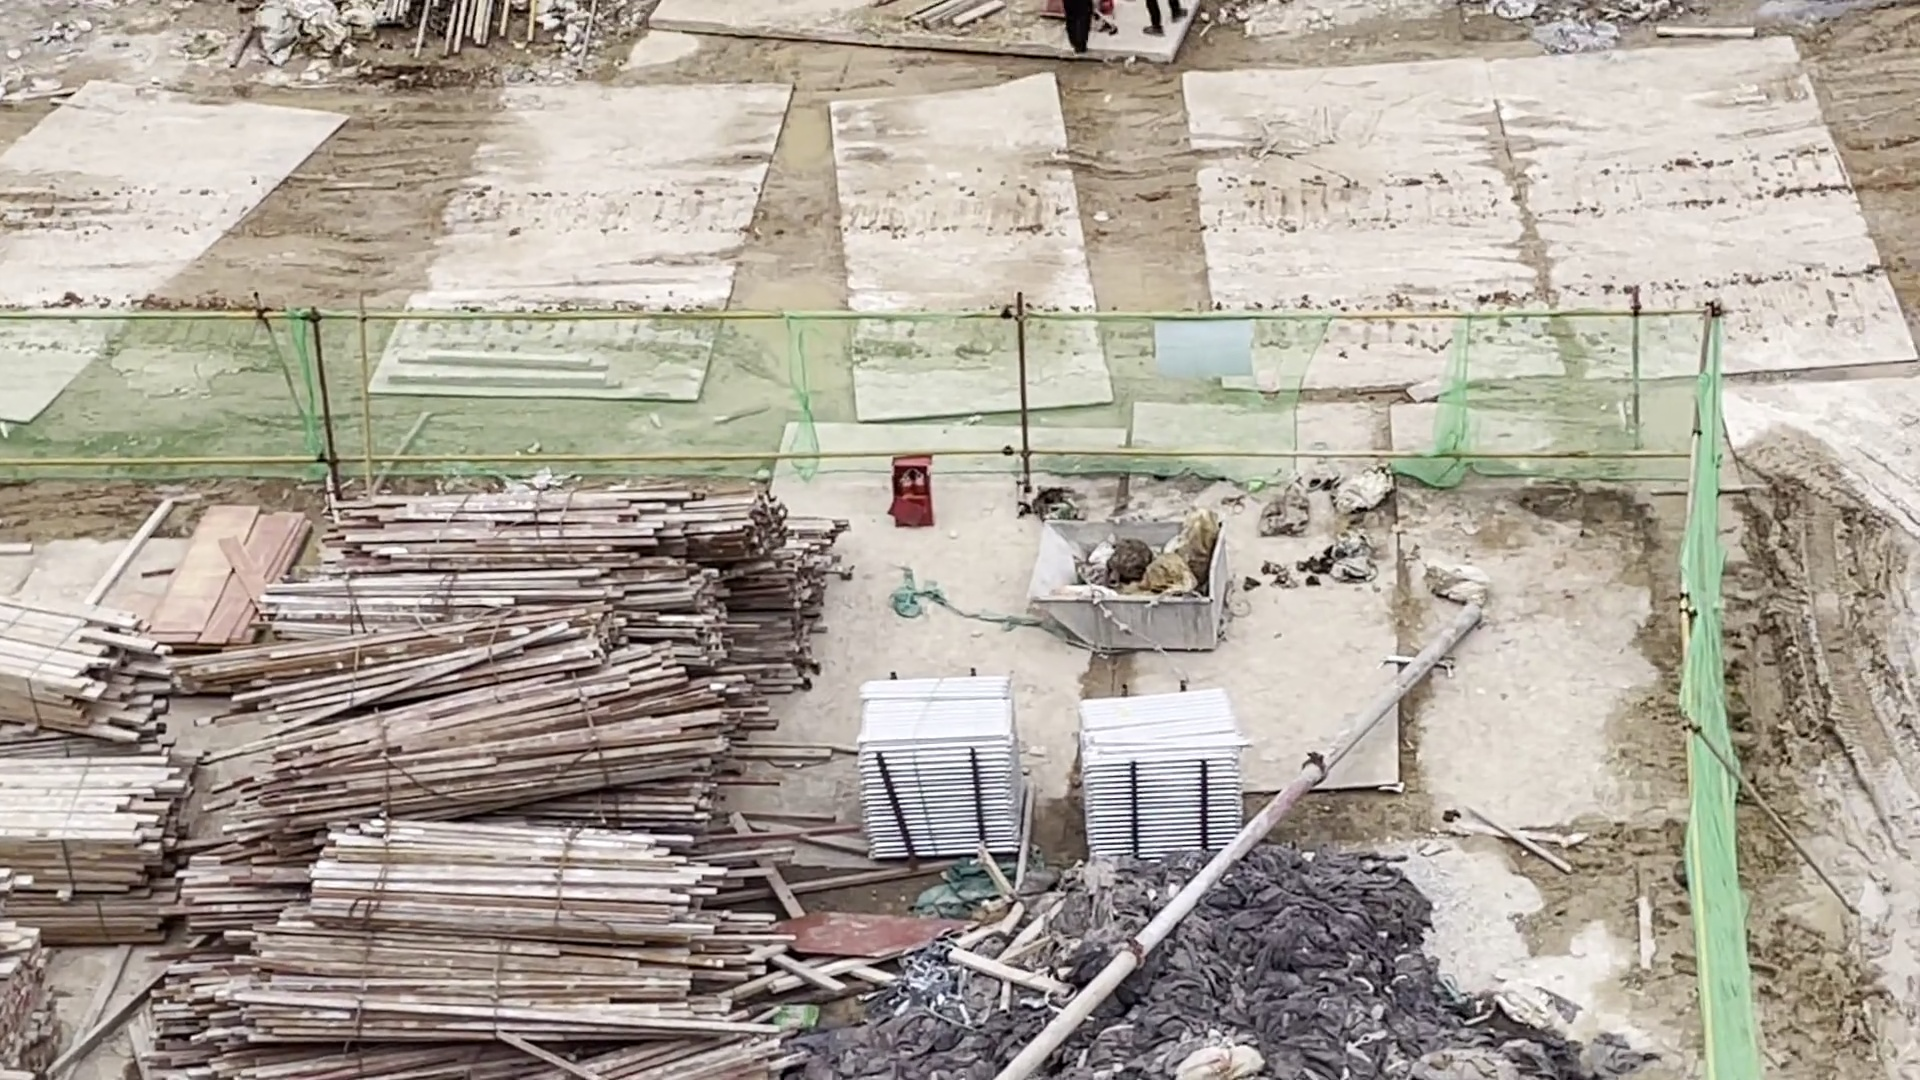board: (152, 502, 316, 649)
hopper: (1026, 508, 1225, 651)
scaffold: (855, 671, 1025, 864), (1071, 688, 1253, 855)
wood: (167, 673, 811, 1080), (313, 485, 814, 669), (1, 742, 166, 949), (1, 596, 152, 736)
